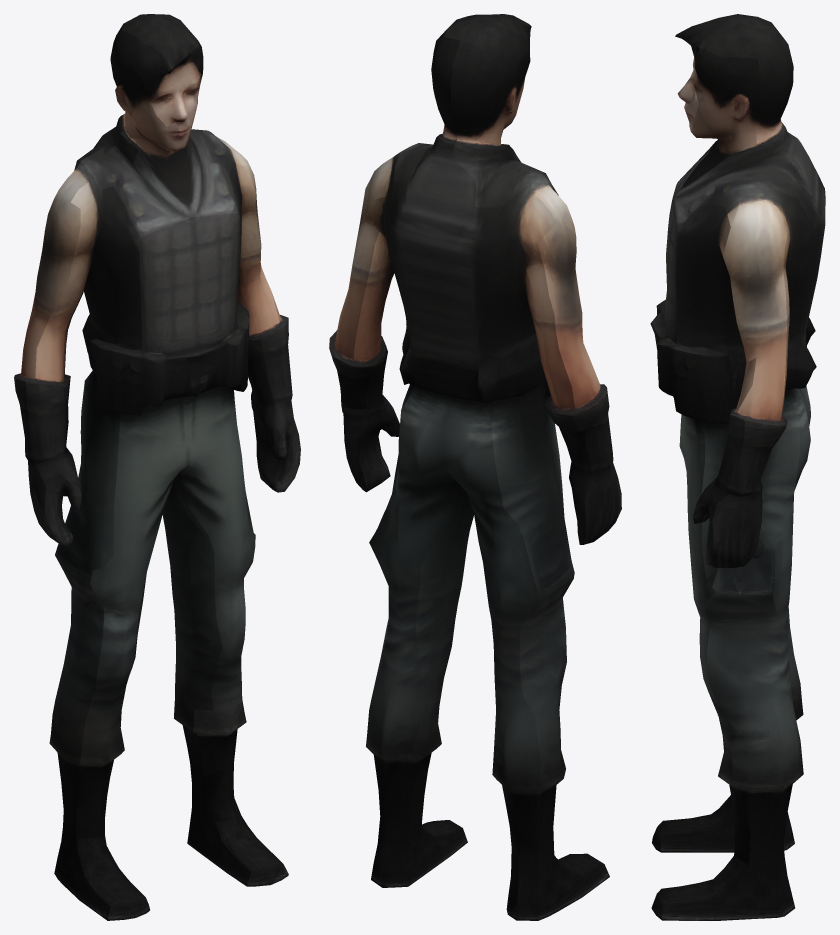
The model's file is soldier-asian-american.glb.
3 renders of one model, left to right at view 1: azimuth 30°, elevation 25°; view 2: azimuth 150°, elevation 25°; view 3: azimuth 270°, elevation 25°, orthographic.
Visible parts, largest first — view 1: geometry_0; view 2: geometry_0; view 3: geometry_0.
Part boxes in pixels (x1,y1,x2,y2): geometry_0: [14, 14, 300, 920]; geometry_0: [329, 14, 621, 920]; geometry_0: [650, 14, 825, 920].
Bounding box in the file's own units: 0.3274 × 1 × 0.1852.
1 material, 1 textured.
